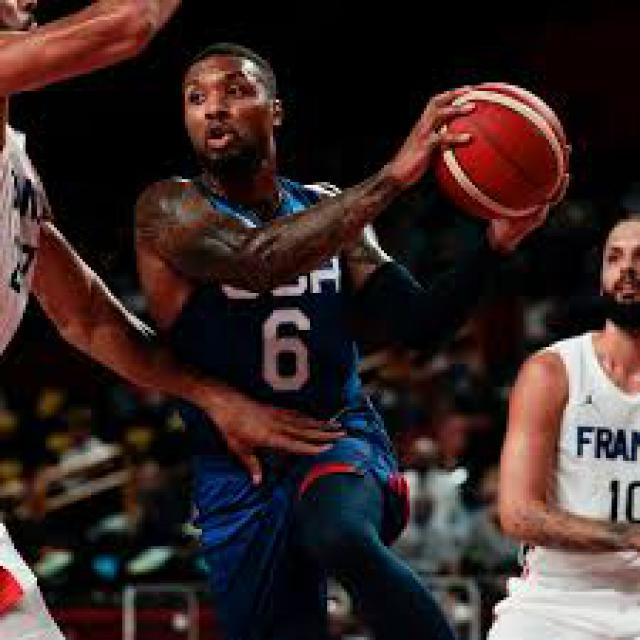basketball: (429, 82, 569, 220)
